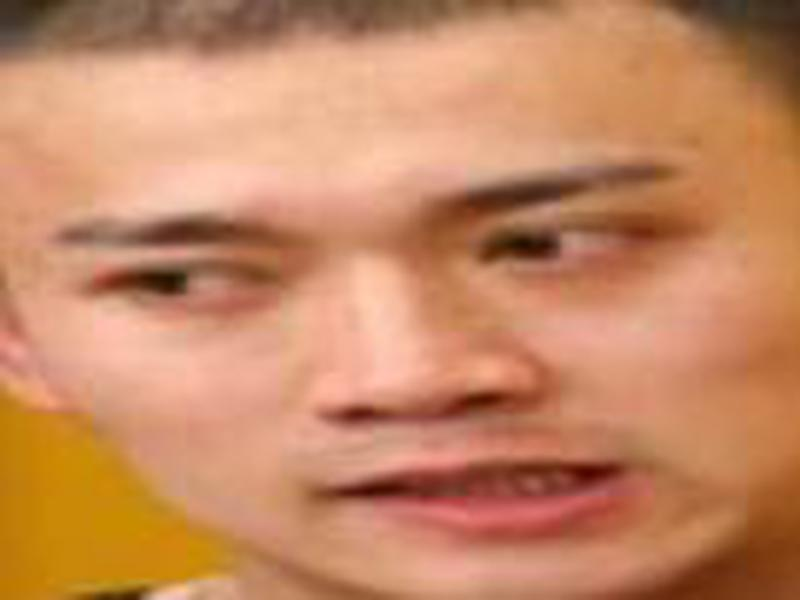without_mask: (6, 50, 776, 600)
